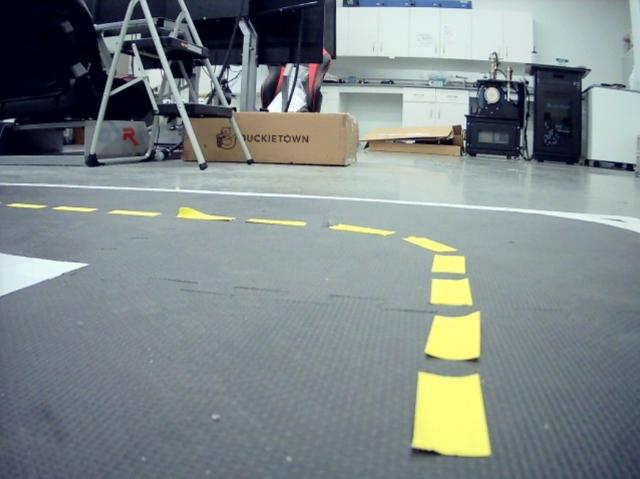whiteline: (0, 182, 640, 220), (0, 250, 88, 298), (593, 219, 640, 236)
yellowline: (412, 253, 495, 459), (0, 200, 307, 227), (328, 223, 458, 253)
